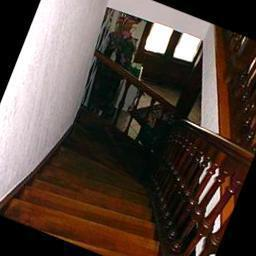Escaleras: (0, 85, 217, 256)
